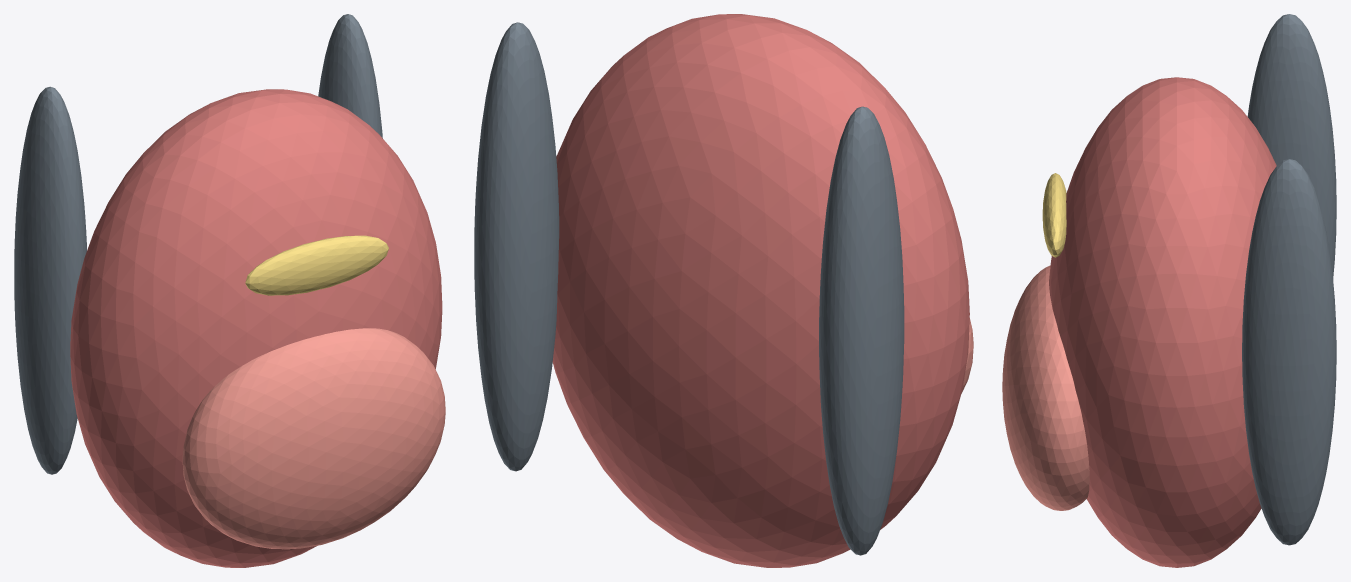
File: red_backpack.glb
3 renders of one model, left to right at view 1: azimuth 30°, elevation 25°; view 2: azimuth 150°, elevation 25°; view 3: azimuth 270°, elevation 25°, orthographic. The views are drawn at different scales.
Visible parts, largest first — view 1: red_backpack_0, red_backpack_1, red_backpack_2, red_backpack_4, red_backpack_3; view 2: red_backpack_0, red_backpack_2, red_backpack_3; view 3: red_backpack_0, red_backpack_3, red_backpack_1, red_backpack_2, red_backpack_4.
Part boxes in pixels (x1,y1,x2,y2): red_backpack_0: (70, 89, 442, 567); red_backpack_1: (182, 328, 445, 549); red_backpack_2: (14, 86, 86, 474); red_backpack_4: (245, 235, 388, 295); red_backpack_3: (318, 14, 382, 138); red_backpack_0: (552, 14, 969, 567); red_backpack_2: (819, 106, 904, 555); red_backpack_3: (474, 22, 559, 471); red_backpack_0: (1049, 77, 1276, 567); red_backpack_3: (1242, 159, 1336, 545); red_backpack_1: (1002, 265, 1089, 510); red_backpack_2: (1247, 14, 1336, 279); red_backpack_4: (1042, 173, 1066, 257).
Bounding box in the file's own units: 0.69 × 0.87 × 0.565.
